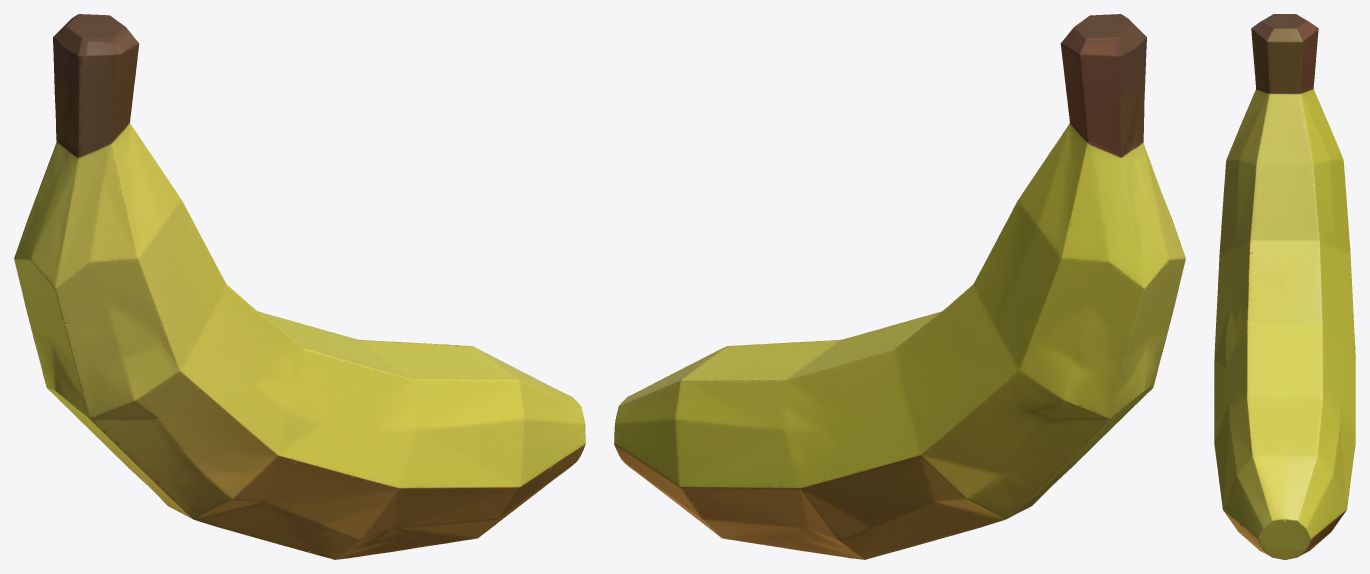
The model's file is banan.glb.
3 views of the same model, side by side, from view 1: azimuth 30°, elevation 25°; view 2: azimuth 150°, elevation 25°; view 3: azimuth 270°, elevation 25° (orthographic). The views are drawn at different scales.
Size of the model in its own units: 1.82 by 1.9 by 0.5947.
Materials: 1 (1 with a texture image).
